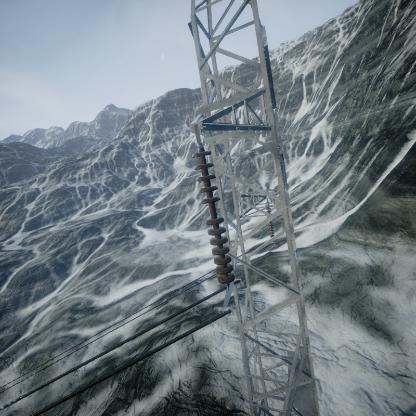insulator: (192, 142, 235, 285)
